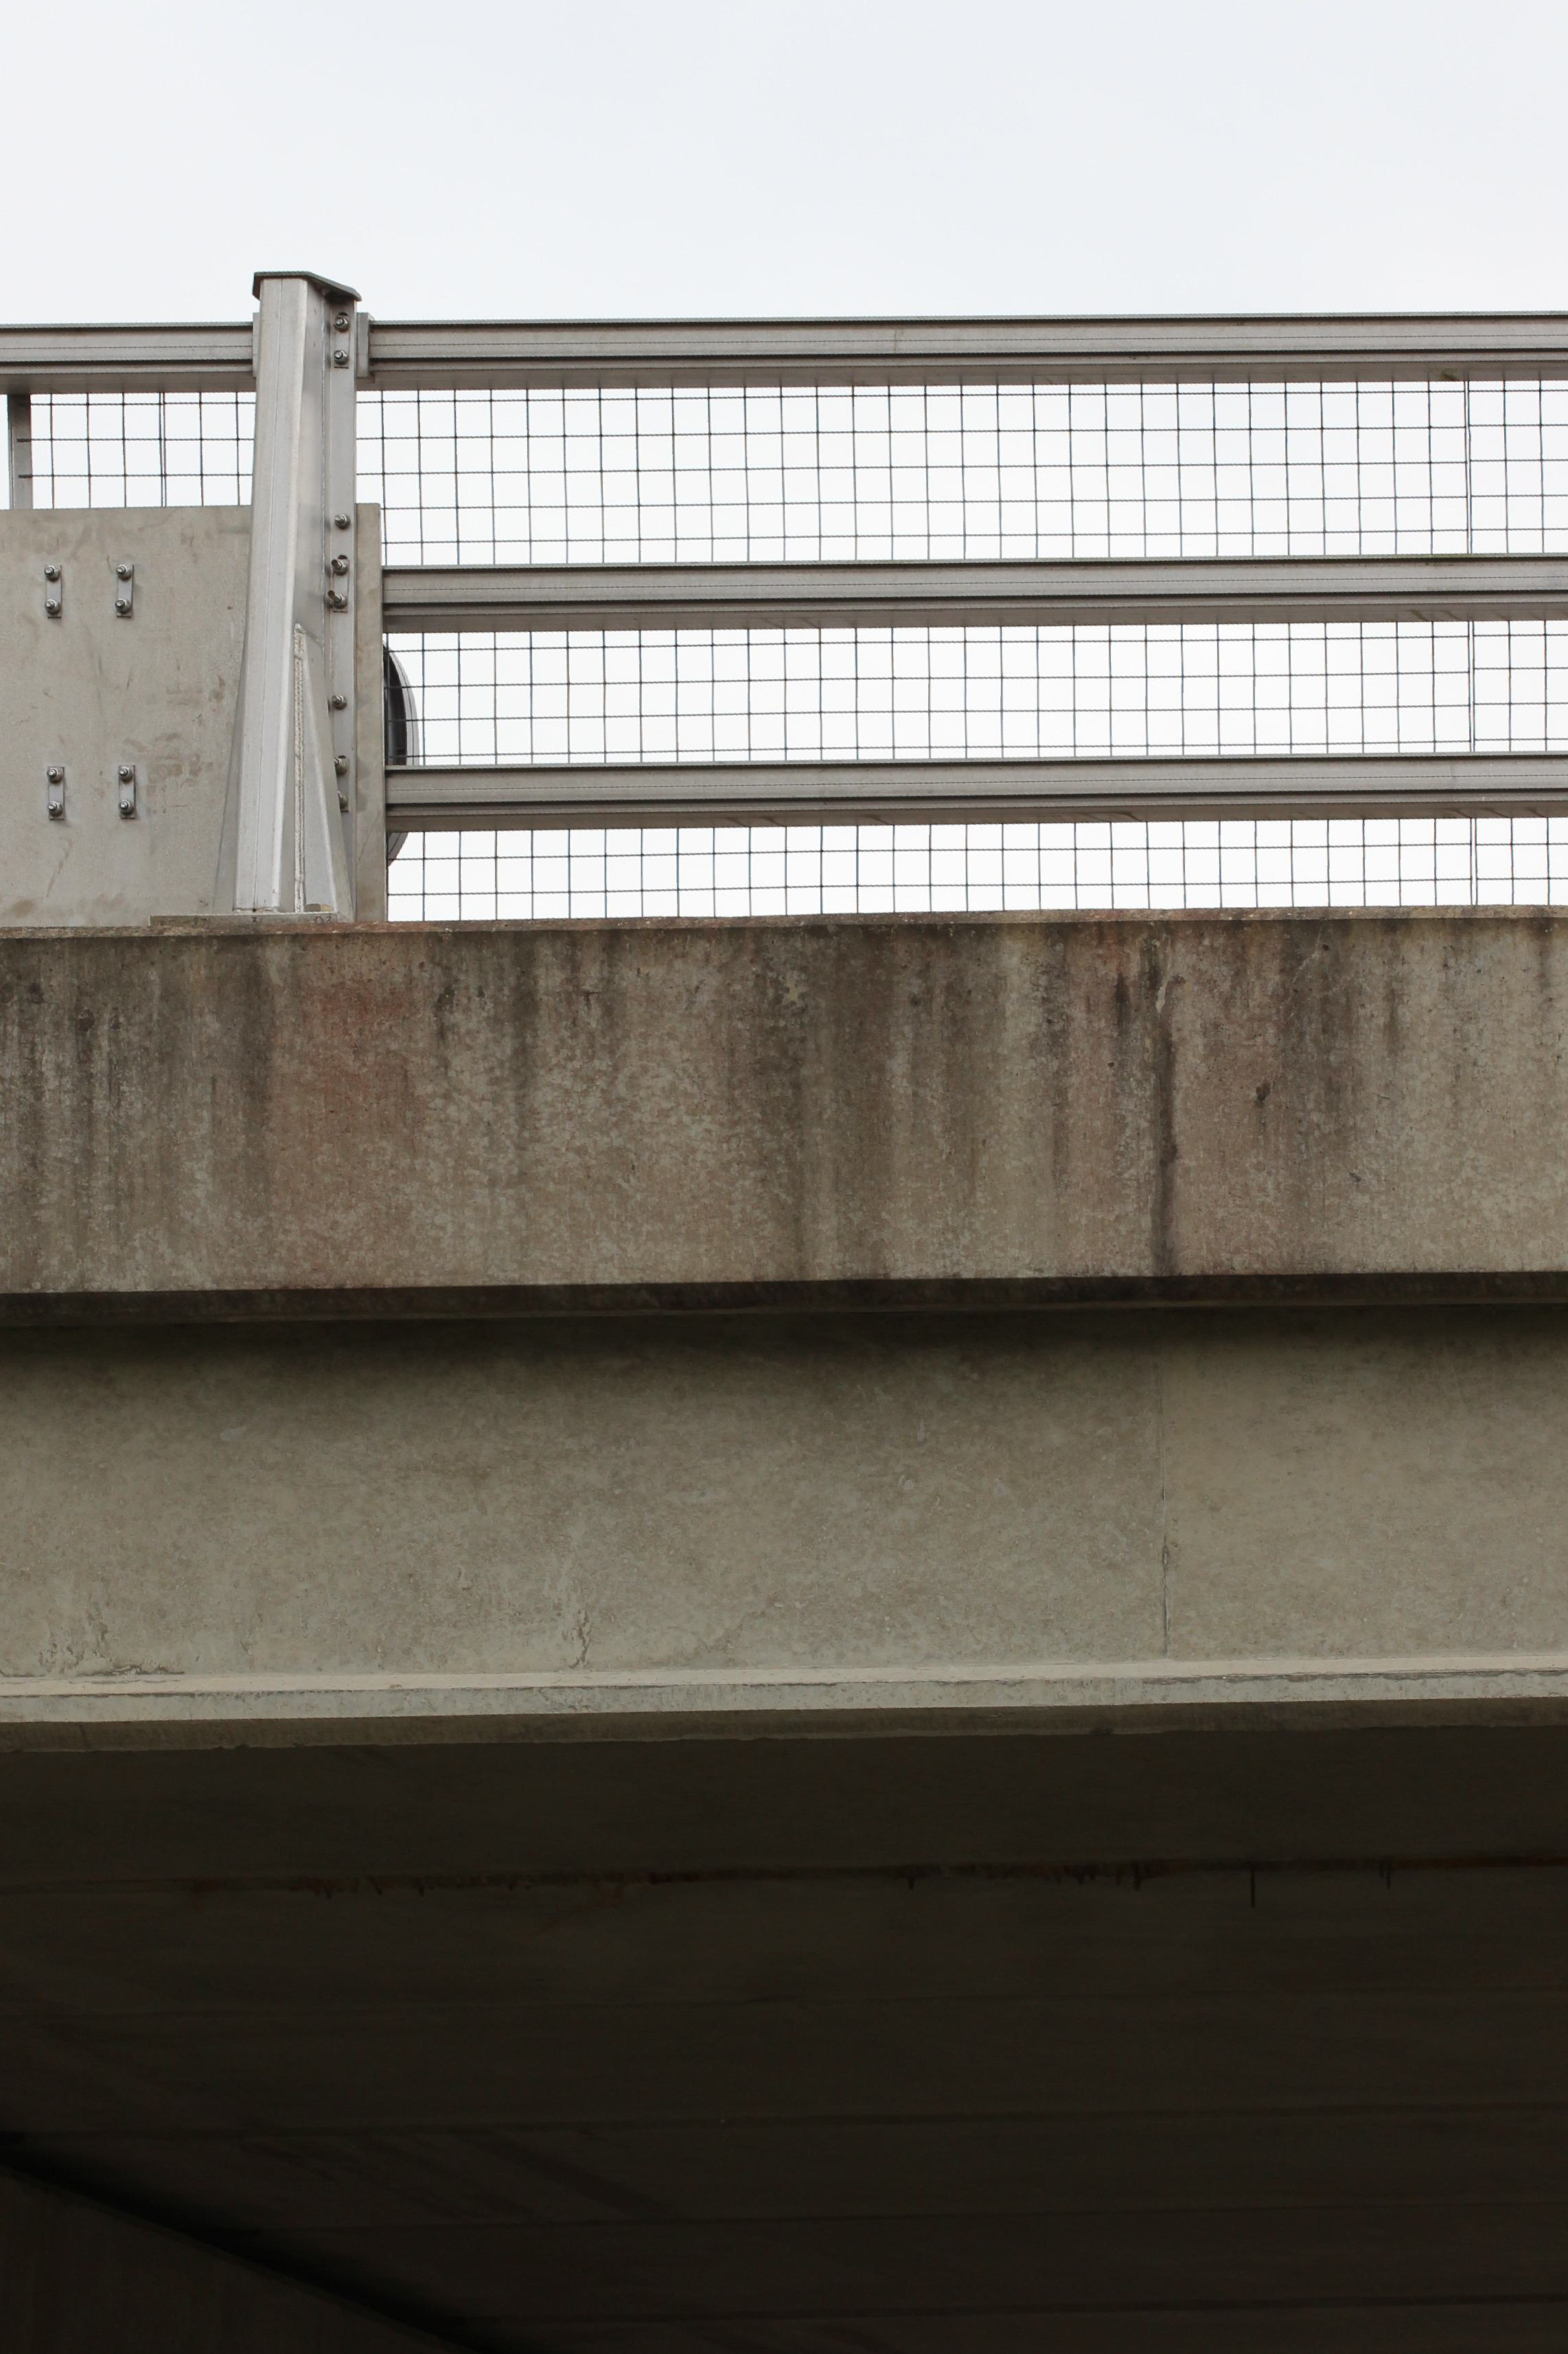Corrosion: (0, 922, 1410, 1295)
